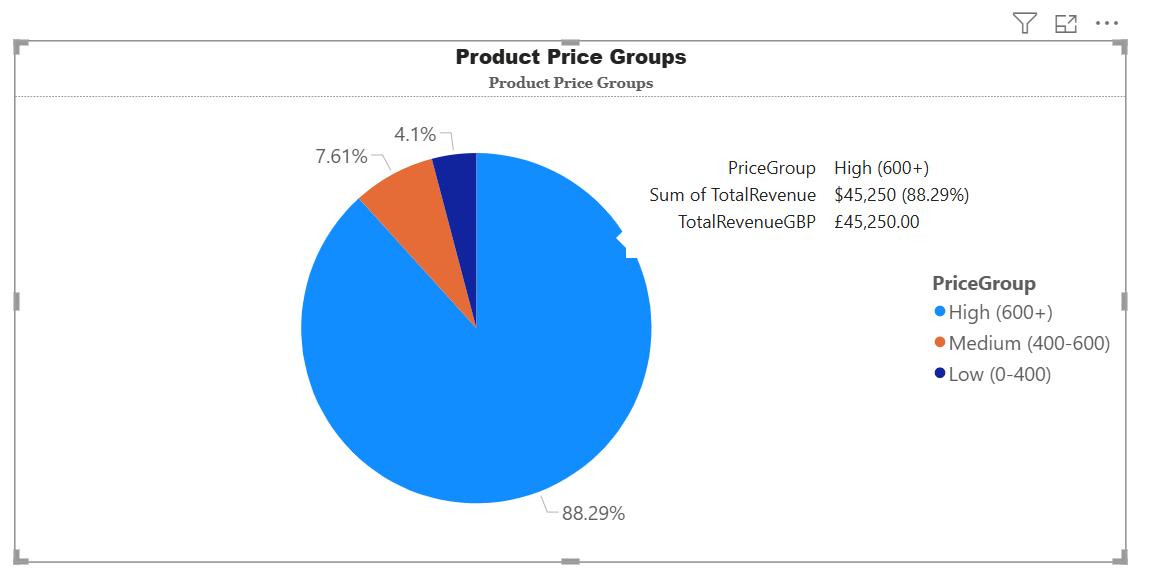

The page's visual inventory and layout, read from the dashboard file:
{"tool":"powerbi","page":{"name":"Page 2","canvas":[1280,720],"ordinal":2},"visuals":[{"type":"pieChart","title":"Product Price Groups","fields":{"Category":["Query2.PriceGroup"],"Y":["Sum(Query2.TotalRevenue)"]},"box":[40.5,124.7,1199.8,563.5],"z":2}]}

Visuals, with their boxes on the page's 1280x720 design canvas (x1, y1, x2, y2). These are canvas units, not pixel positions in the 1156x577 screenshot, which may show the page scaled, cropped or inside an application window:
"Product Price Groups" pieChart: 40:125:1240:688
